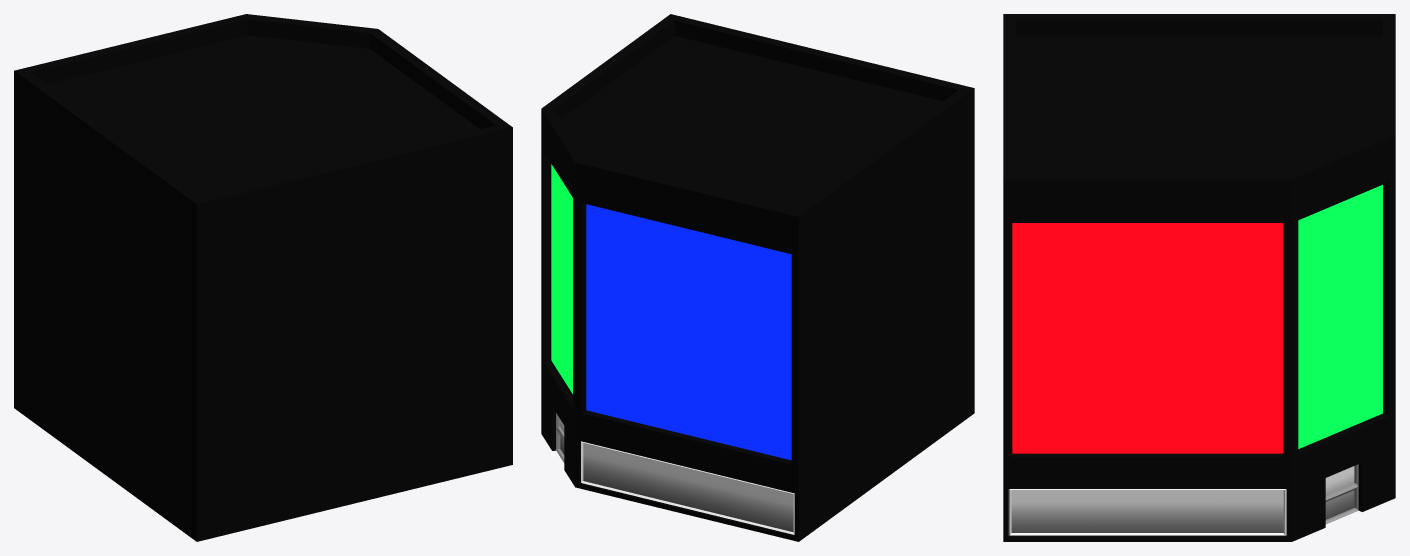
File: PCB1.fbx
3 renders of one model, left to right at view 1: azimuth 30°, elevation 25°; view 2: azimuth 150°, elevation 25°; view 3: azimuth 270°, elevation 25°, orthographic. The views are drawn at different scales.
Visible parts, largest first — view 1: AdBuilding2Combined; view 2: AdBuilding2Combined; view 3: AdBuilding2Combined.
Boxes of the visible parts, x1,y1,x2,y2 form: AdBuilding2Combined: (14, 14, 512, 541); AdBuilding2Combined: (541, 14, 974, 541); AdBuilding2Combined: (1003, 14, 1395, 541).
Bounding box in the file's own units: 10.74 × 10.76 × 10.97.
